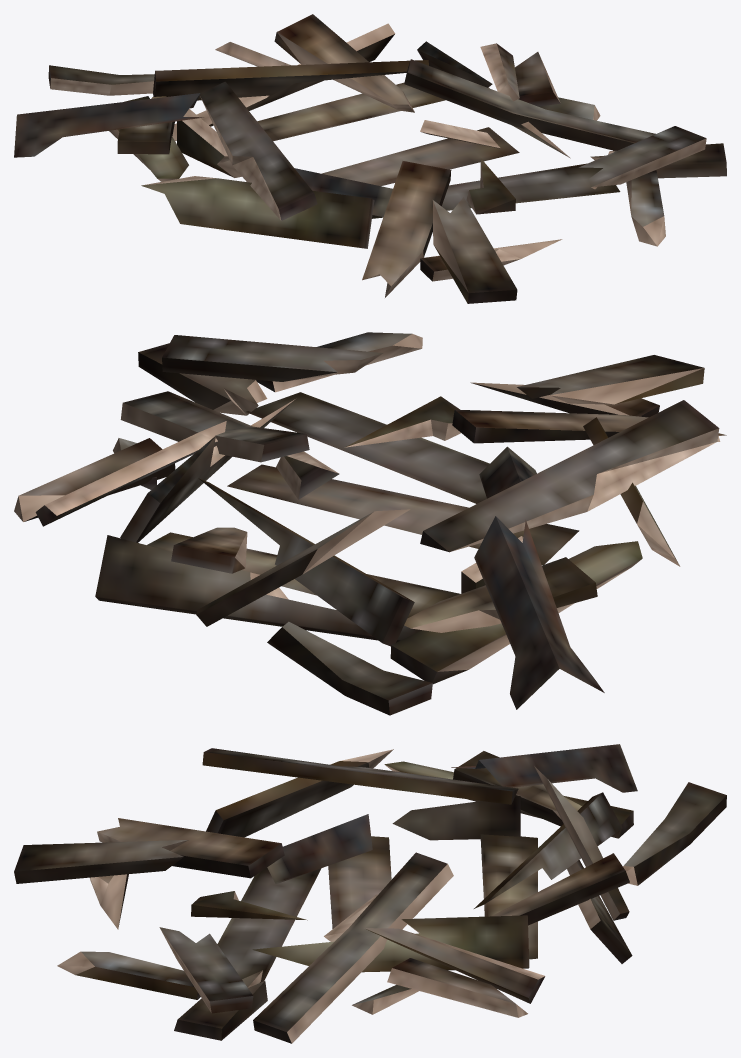
The model's file is SM_Exo_Crate_Open_Destroyed.FBX.
3 renders of one model, top to bottom at view 1: azimuth 30°, elevation 25°; view 2: azimuth 150°, elevation 25°; view 3: azimuth 270°, elevation 25°, orthographic. The views are drawn at different scales.
Parts seen in each view (by area): view 1: SM_Exo_Crate_Open_Destroyed; view 2: SM_Exo_Crate_Open_Destroyed; view 3: SM_Exo_Crate_Open_Destroyed.
Boxes of the visible parts, box(x1,y1,x2,y2) form: SM_Exo_Crate_Open_Destroyed: box(14, 14, 726, 303); SM_Exo_Crate_Open_Destroyed: box(14, 332, 726, 715); SM_Exo_Crate_Open_Destroyed: box(14, 744, 726, 1043).
Bounding box in the file's own units: 76.41 × 13.24 × 83.26.
